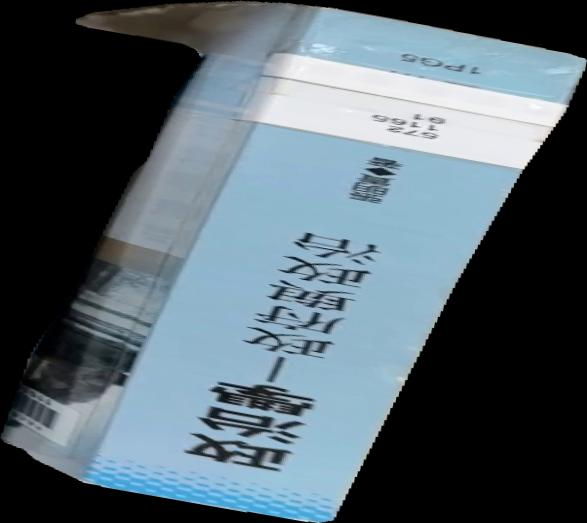reverse: (1, 1, 587, 523)
